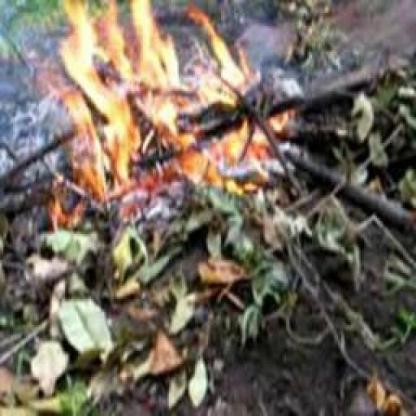fire: (38, 0, 299, 227)
